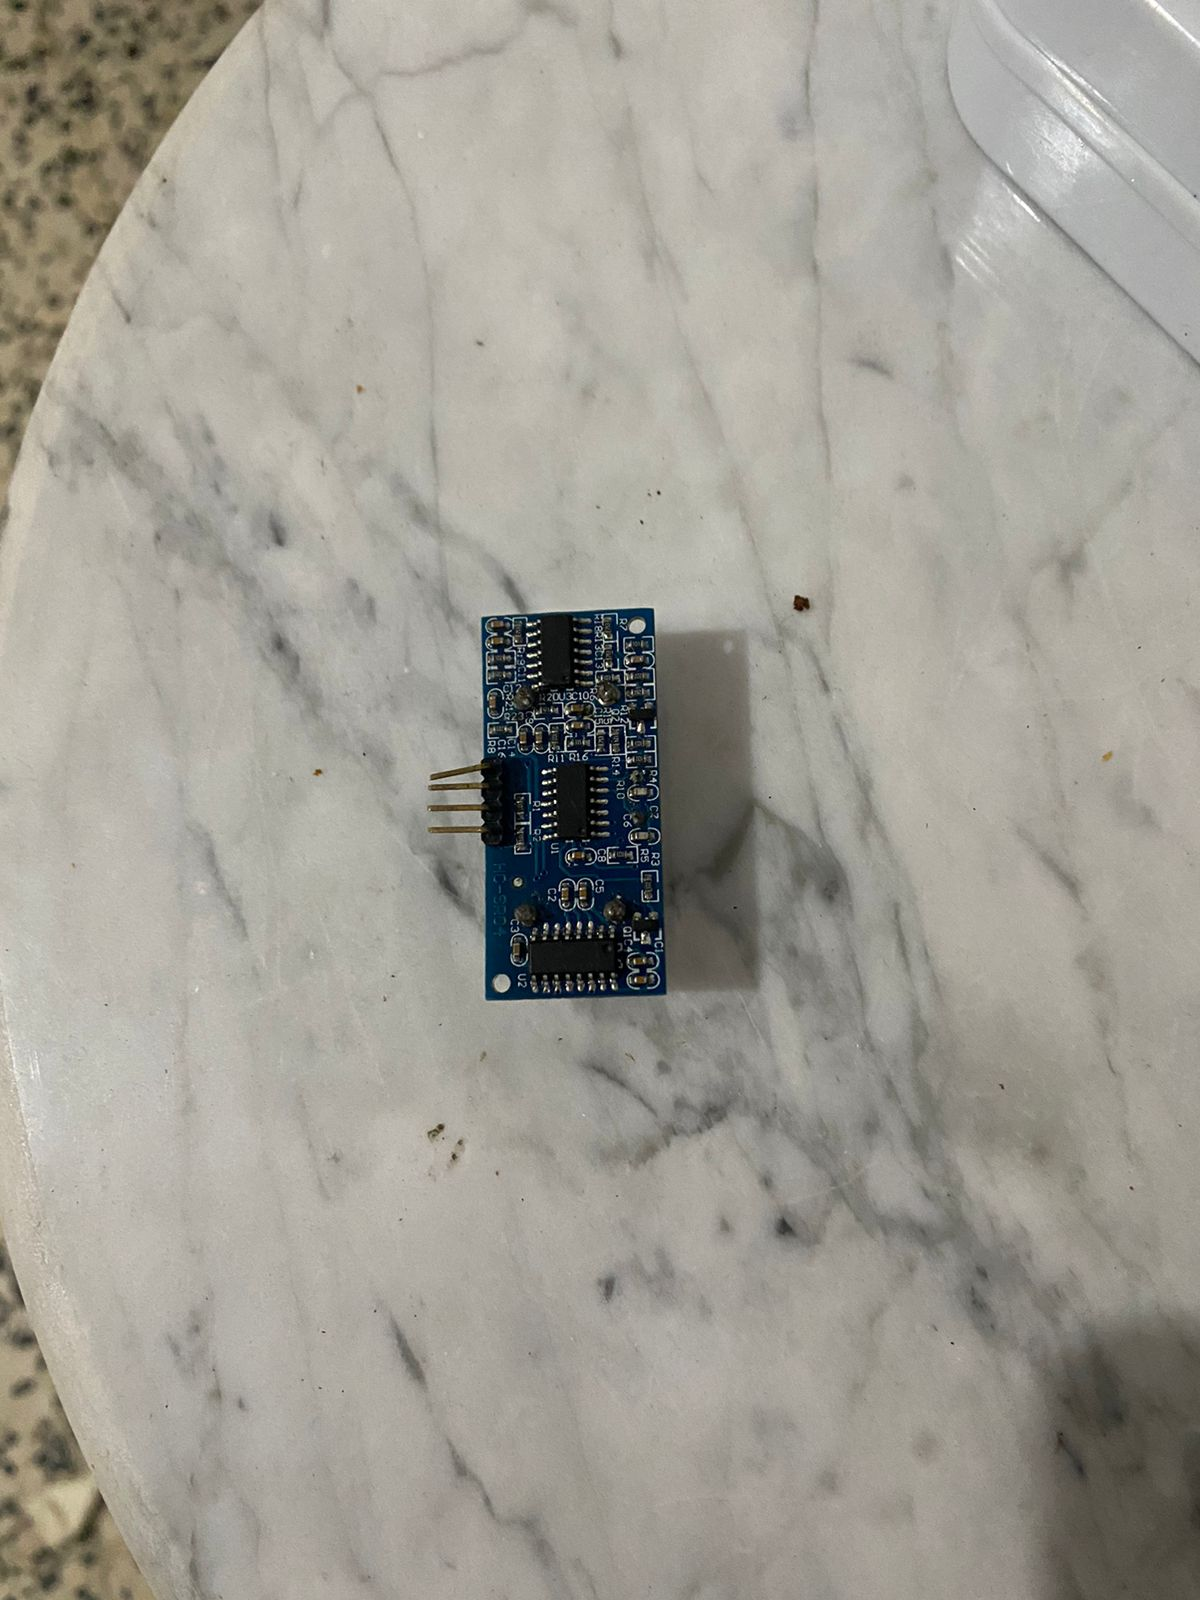capteur-ultrasonique: (421, 605, 681, 1008)
